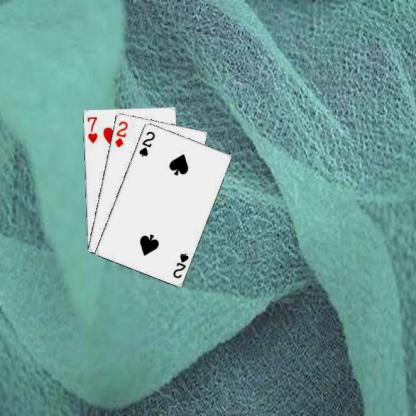2D: (112, 118, 129, 148)
2S: (136, 128, 156, 158), (170, 250, 190, 279)
7H: (84, 114, 98, 144)
